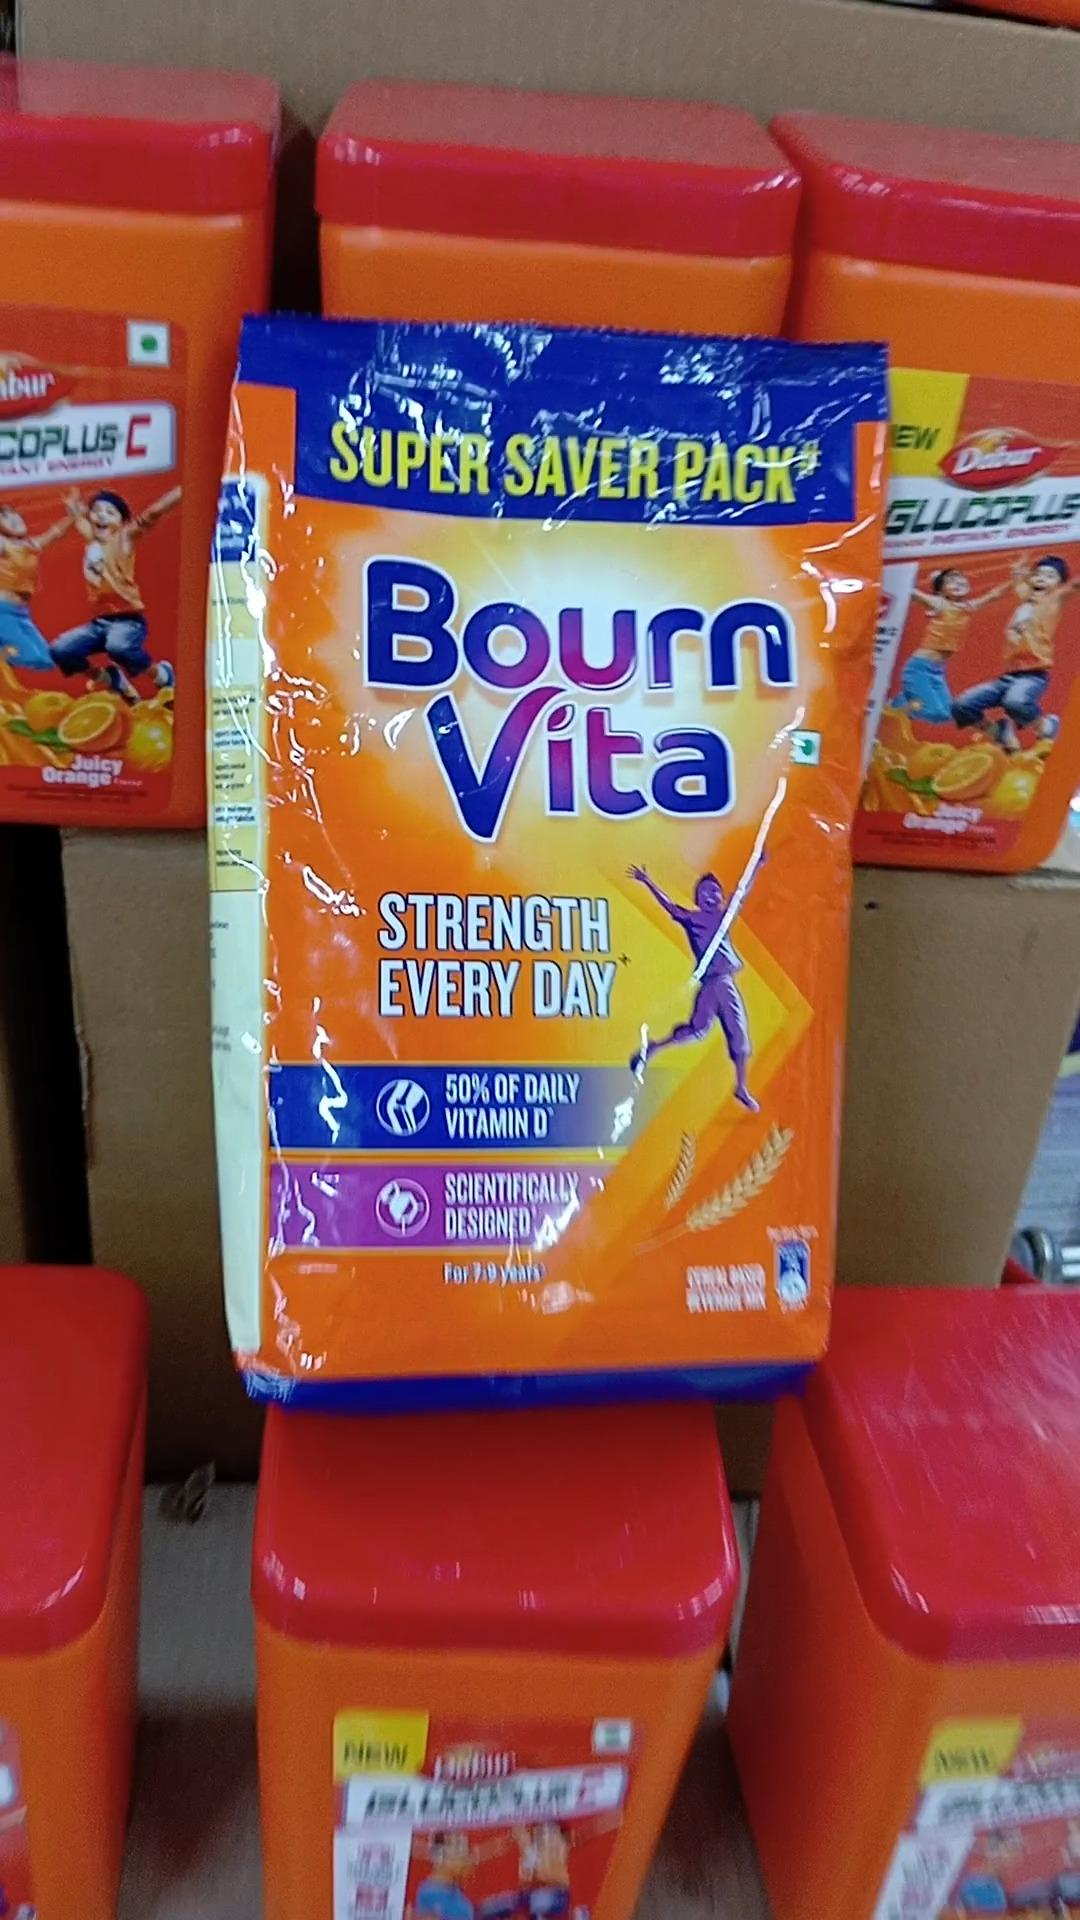BOURN_VITA_1_KG_POUCH: (193, 295, 847, 1398)
